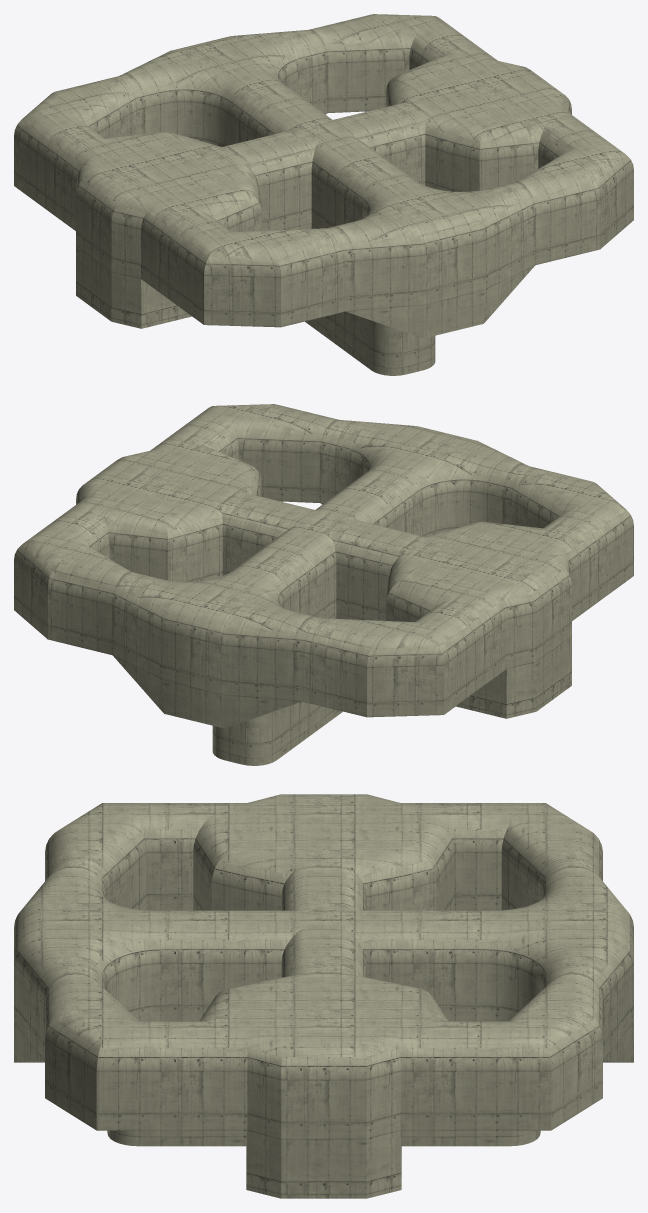
The model's file is SM_NeoLD_10_Block_00.fbx.
The picture shows the model from 3 angles, top to bottom: view 1: azimuth 30°, elevation 25°; view 2: azimuth 150°, elevation 25°; view 3: azimuth 270°, elevation 25°; orthographic projection. The views are drawn at different scales.
Parts seen in each view (by area): view 1: SM_NeoLD_10_Block_00; view 2: SM_NeoLD_10_Block_00; view 3: SM_NeoLD_10_Block_00.
Part boxes in pixels (box(x1,y1,x2,y2)): SM_NeoLD_10_Block_00: box(14, 14, 633, 375); SM_NeoLD_10_Block_00: box(14, 404, 633, 765); SM_NeoLD_10_Block_00: box(14, 794, 633, 1198).
Bounding box in the file's own units: 3188 × 1162 × 3110.
